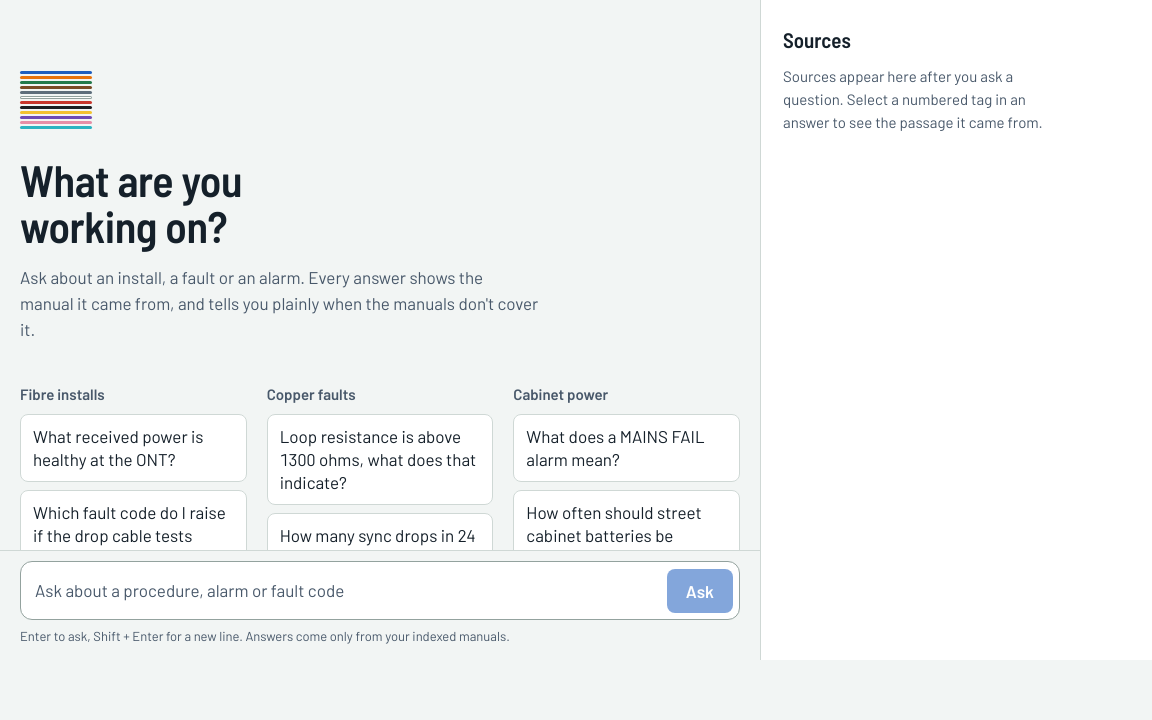
ChatPage › shows a refusal plainly
The width and height of the screenshot is (1152, 720).
Type "How do I configure BGP?" into the text box named "Your question" at coordinates (347, 590), box x1=35 y1=568 x2=659 y2=613
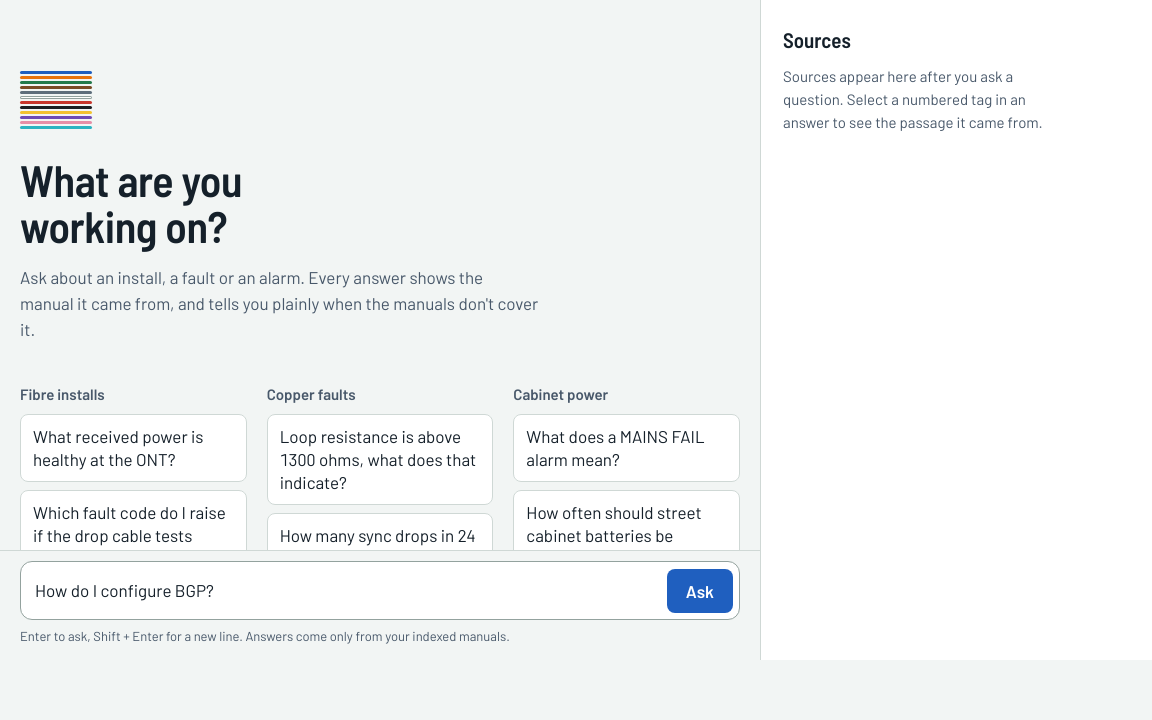
Click the button "Ask" at coordinates (700, 591), box x1=667 y1=569 x2=733 y2=613
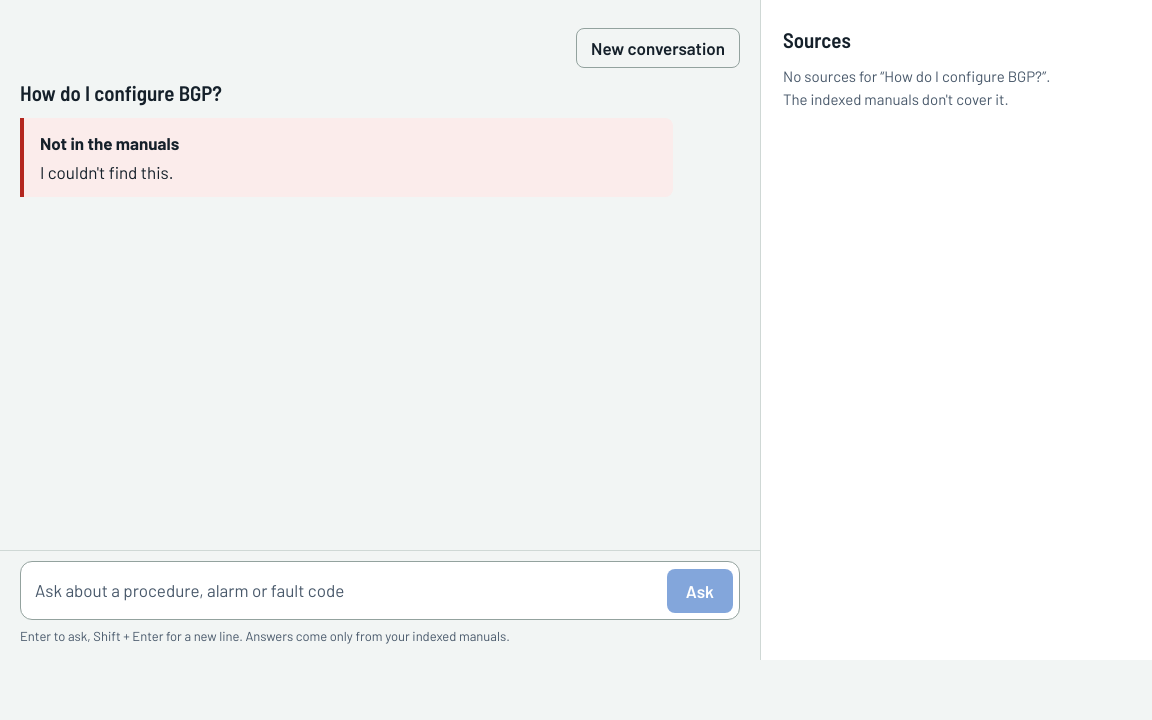
Result: the text "Not in the manuals" is shown at x1=40 y1=133 x2=179 y2=153
Result: the text "No sources for" is shown at x1=783 y1=66 x2=884 y2=84
